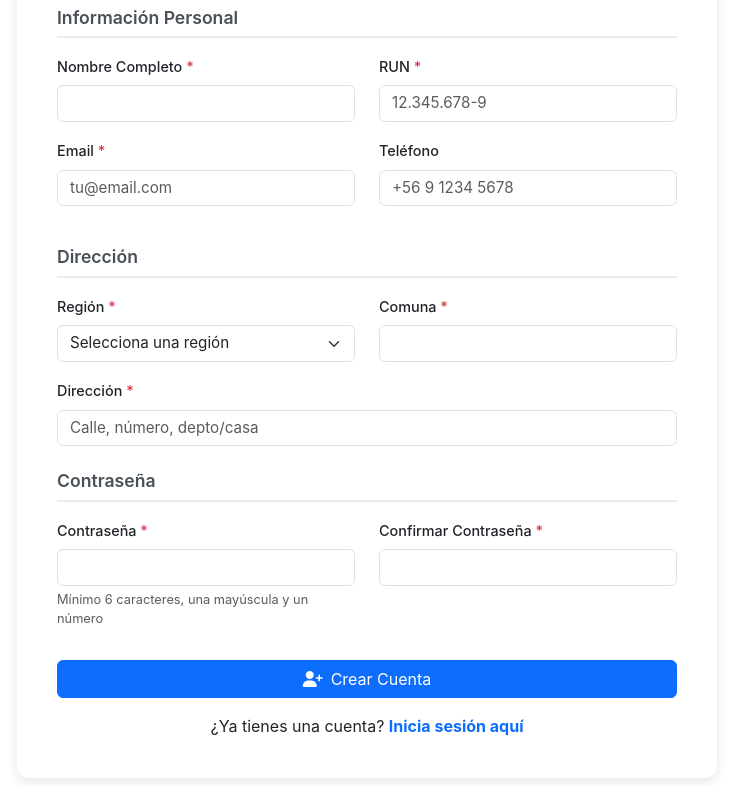
Scenario: RegisterForm Component › should show validation errors for empty required fields
(page scrolled)
Step 1. Click the button "Crear Cuenta" → (367, 679), box top-left (57, 660), bottom-right (677, 698)
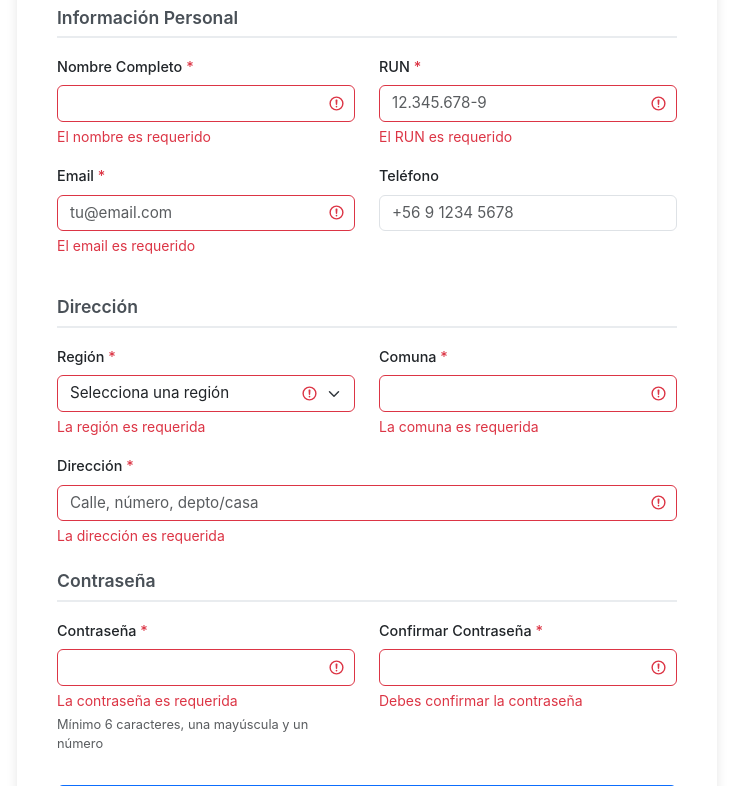
Result: the text "El nombre es requerido" is shown at top-left (57, 128), bottom-right (211, 145)
Result: the text "El RUN es requerido" is shown at top-left (379, 128), bottom-right (512, 145)
Result: the text "El email es requerido" is shown at top-left (57, 238), bottom-right (195, 254)
